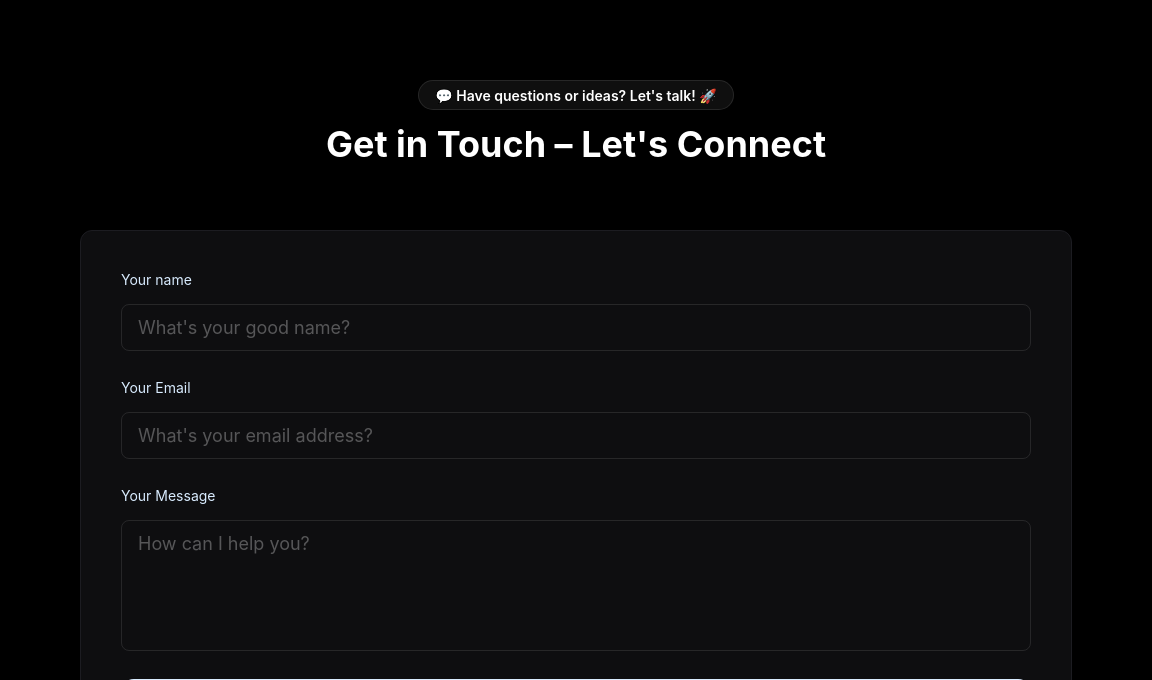
Scenario: ContactComponent › email validation › should show format error when email has only @ symbol
The width and height of the screenshot is (1152, 680).
Type "@" into the field named "email" at (576, 436), box left=121, top=412, right=1031, bottom=459
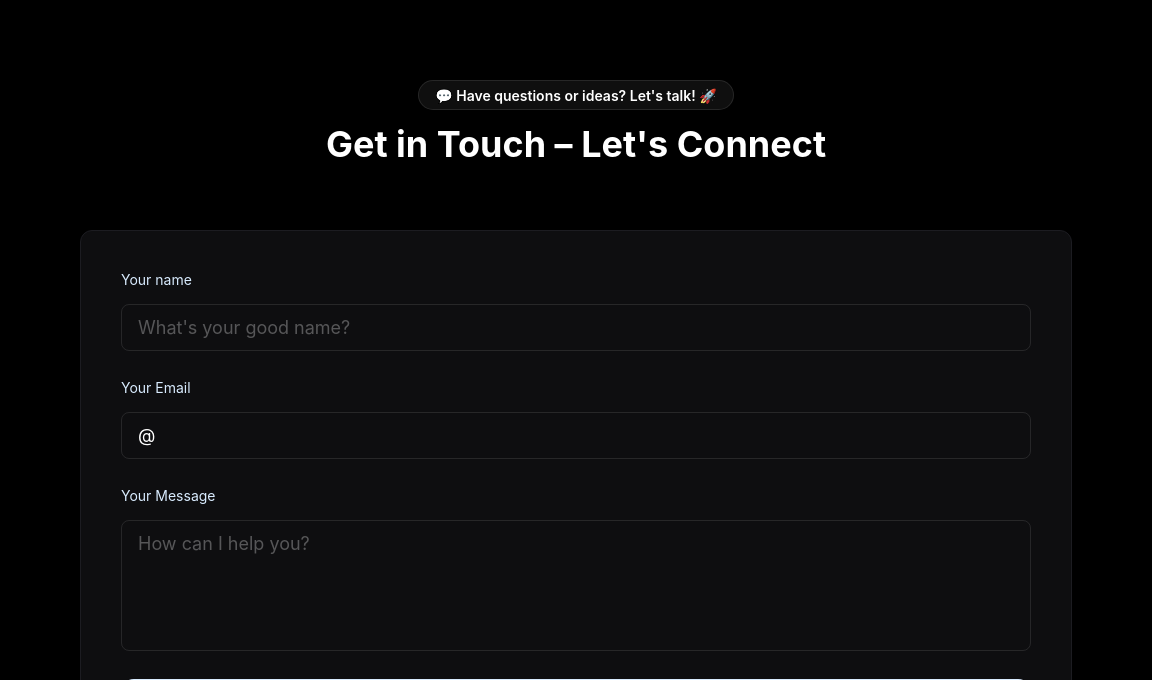
Leave the field named "email", box left=121, top=412, right=1031, bottom=459
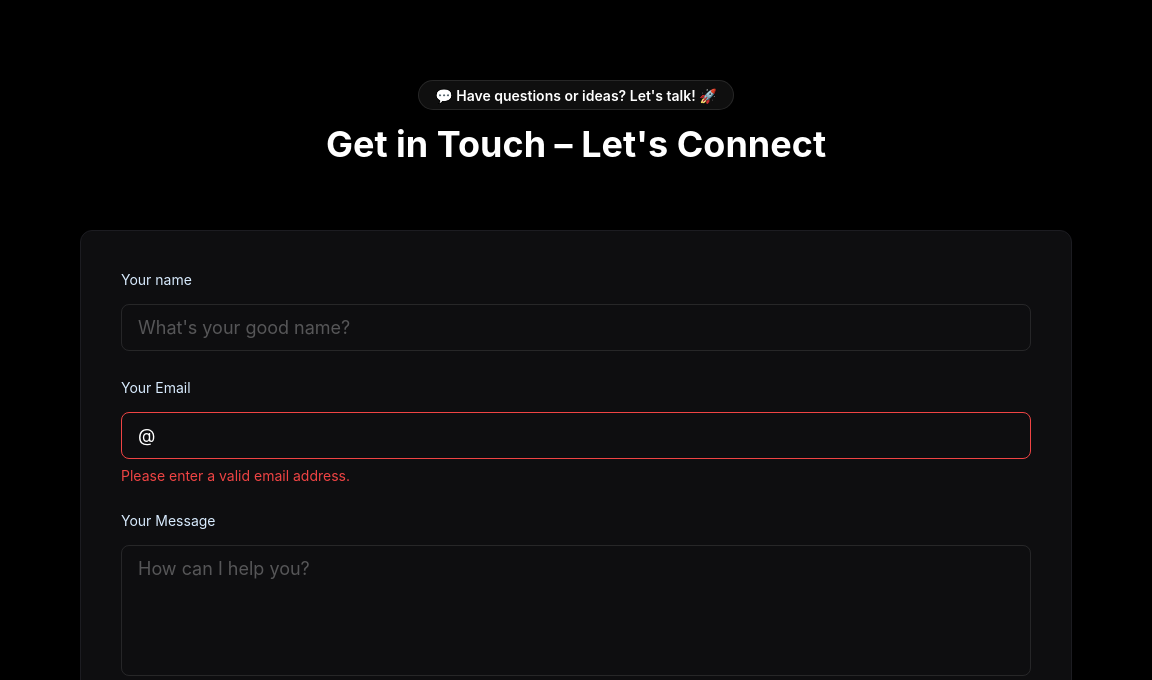
Expected: the text with class "field-error" reads "Please enter a valid email address.", left=121, top=467, right=350, bottom=484
